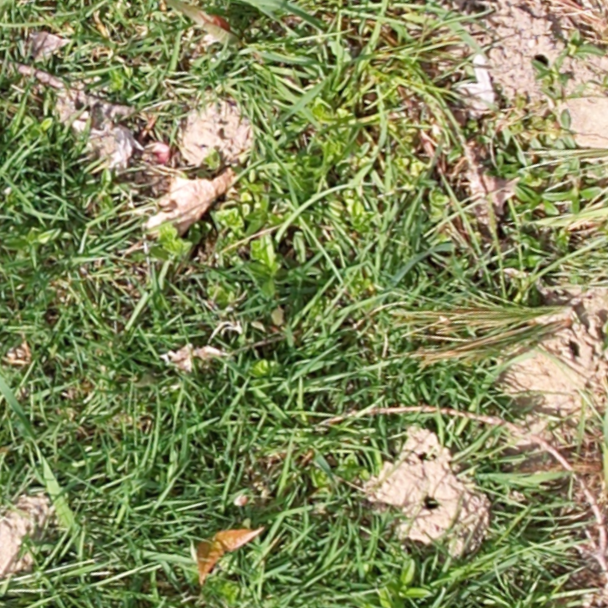nest: (372, 424, 494, 555), (480, 8, 593, 104), (531, 301, 608, 400), (178, 96, 259, 168)
